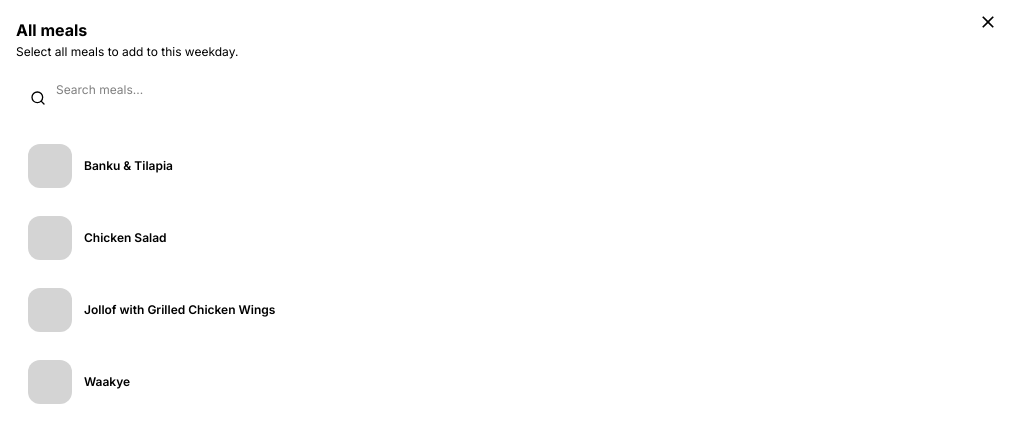
AllMealsModalSheet › filters meals based on search input
The width and height of the screenshot is (1013, 421).
Type "chicken" into the field with placeholder "Search meals...". click: (506, 90)
box: top-left (16, 72), bottom-right (996, 108)
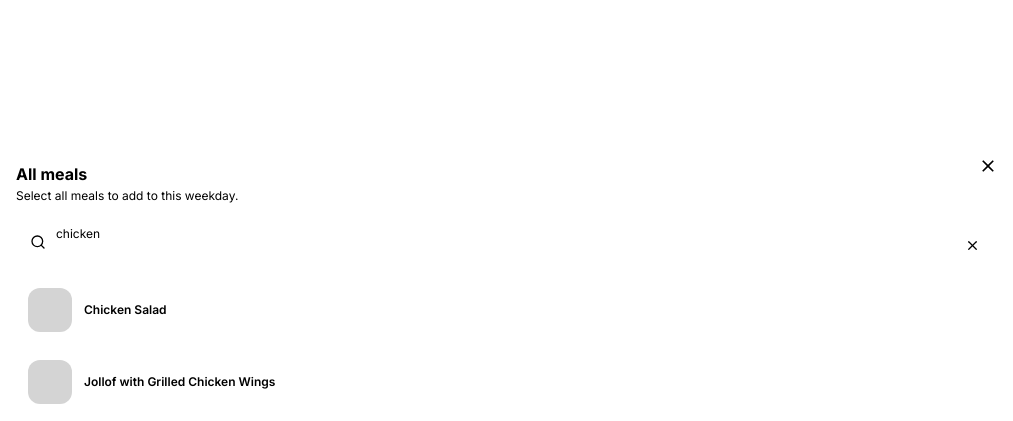
Expected: the text "Chicken Salad" is shown, top-left (84, 302), bottom-right (167, 318)
Expected: the button "Banku & Tilapia" is gone
Expected: the button "Waakye" is gone
